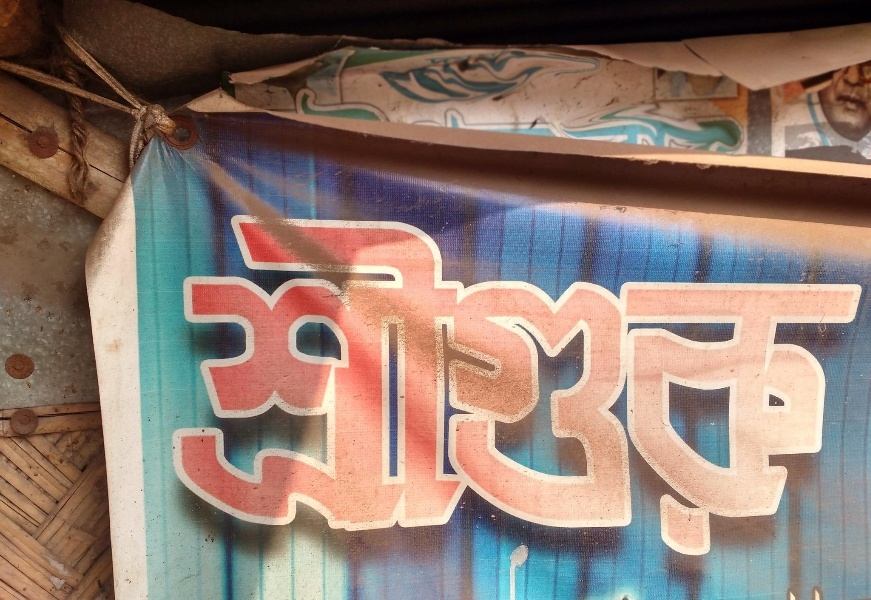text: (193, 207, 208, 563), (209, 207, 224, 563), (225, 207, 240, 563), (241, 207, 256, 563), (257, 207, 272, 563), (273, 207, 288, 563), (289, 207, 304, 563), (305, 207, 320, 563), (321, 207, 336, 563), (337, 207, 352, 563), (353, 207, 368, 563), (369, 207, 384, 563), (385, 207, 400, 563), (401, 207, 416, 563), (417, 207, 432, 563), (433, 207, 448, 563), (449, 207, 464, 563), (465, 207, 480, 563), (481, 207, 496, 563), (497, 207, 512, 563), (513, 207, 528, 563), (529, 207, 544, 563), (545, 207, 560, 563), (561, 207, 576, 563), (577, 207, 592, 563), (593, 207, 608, 563), (609, 207, 624, 563), (625, 207, 640, 563), (641, 207, 656, 563), (657, 207, 672, 563), (673, 207, 688, 563), (689, 207, 704, 563), (705, 207, 720, 563), (721, 207, 736, 563), (737, 207, 752, 563), (753, 207, 768, 563), (769, 207, 784, 563), (785, 207, 800, 563), (801, 207, 816, 563), (817, 207, 832, 563), (833, 207, 848, 563), (849, 207, 864, 563), (188, 207, 192, 563), (865, 207, 869, 563)
